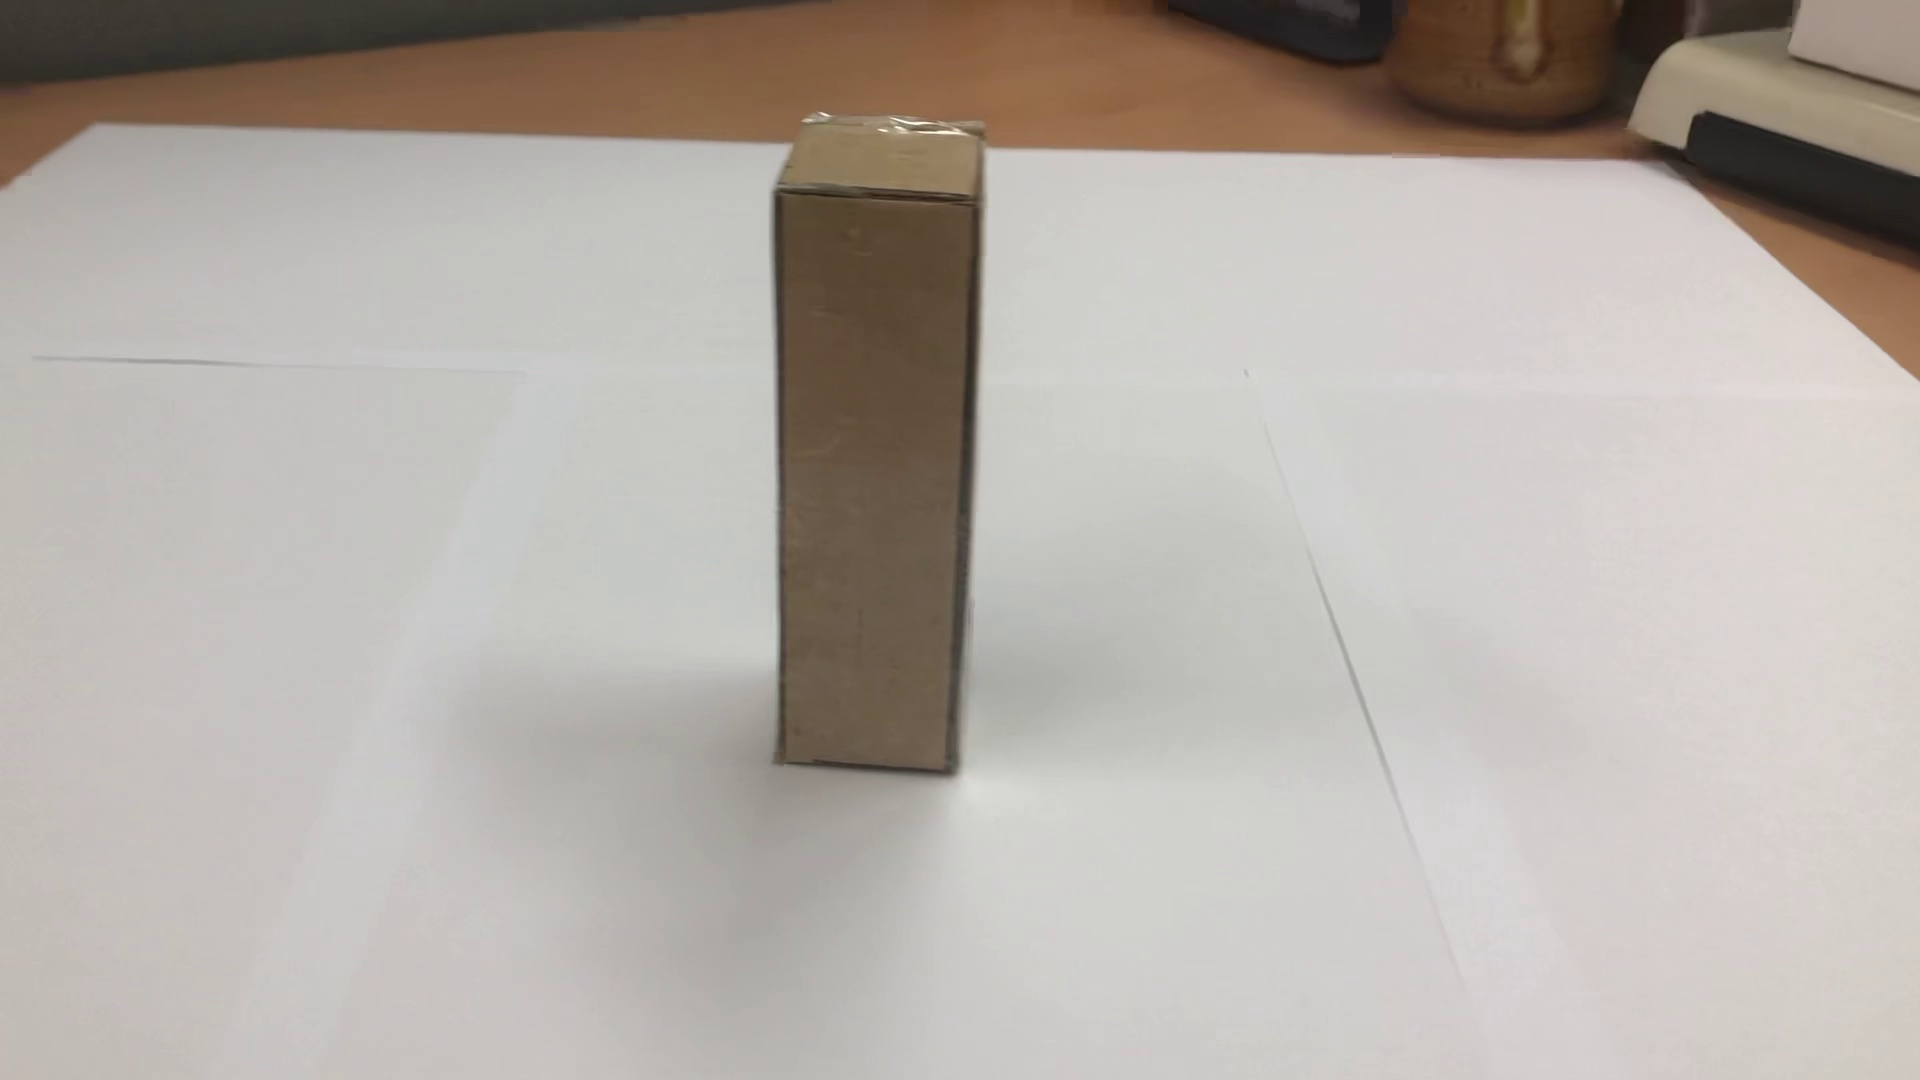box: (746, 73, 988, 831)
